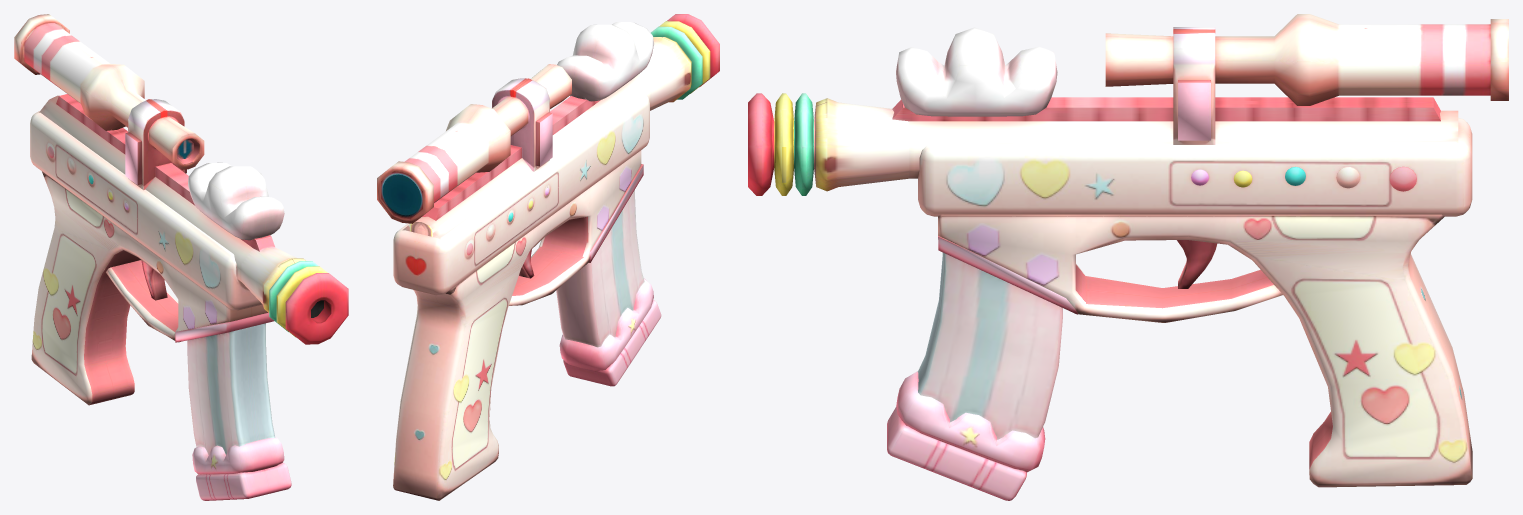
File: 3b16a8ea-2ed9-4adf-a9b1-943aea172a1d.glb
The picture shows the model from 3 angles, left to right: view 1: azimuth 30°, elevation 25°; view 2: azimuth 150°, elevation 25°; view 3: azimuth 270°, elevation 25°; orthographic projection. The views are drawn at different scales.
Parts seen in each view (by area): view 1: Candy Rifle; view 2: Candy Rifle; view 3: Candy Rifle.
Part boxes in pixels (x1,y1,x2,y2): Candy Rifle: (14, 14, 348, 500); Candy Rifle: (377, 14, 719, 500); Candy Rifle: (748, 14, 1508, 500).
Size of what is drawn, in the model's own units: 0.0843 by 0.4587 by 0.6751.
Materials: 1 (1 with a texture image).
